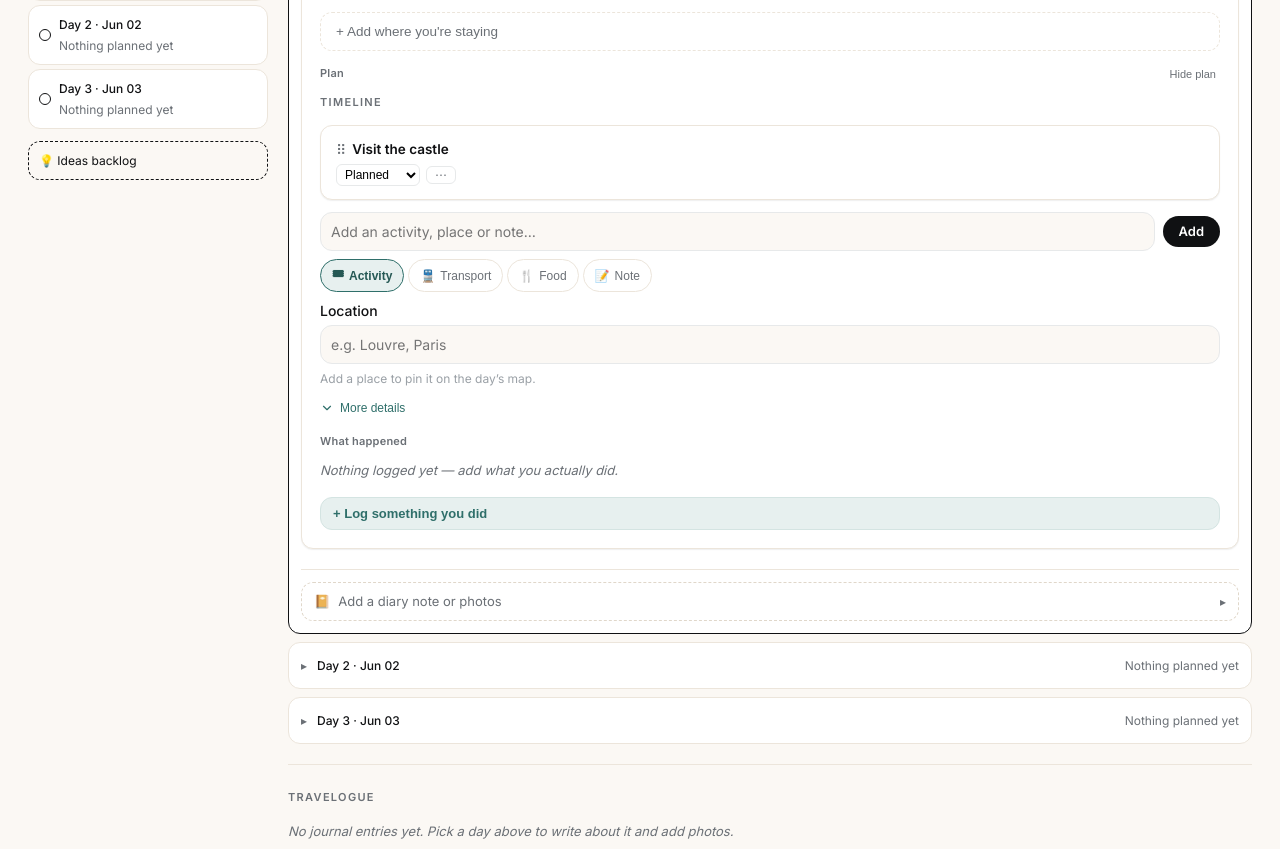
Test: TripPlanPage › offers a collapsed diary on each day in the stack, opening the editor on click
This screenshot has width=1280, height=849.
(page scrolled)
Click the button "📔 Add a diary note or photos ▸": (420, 601) [301,582,1239,621]
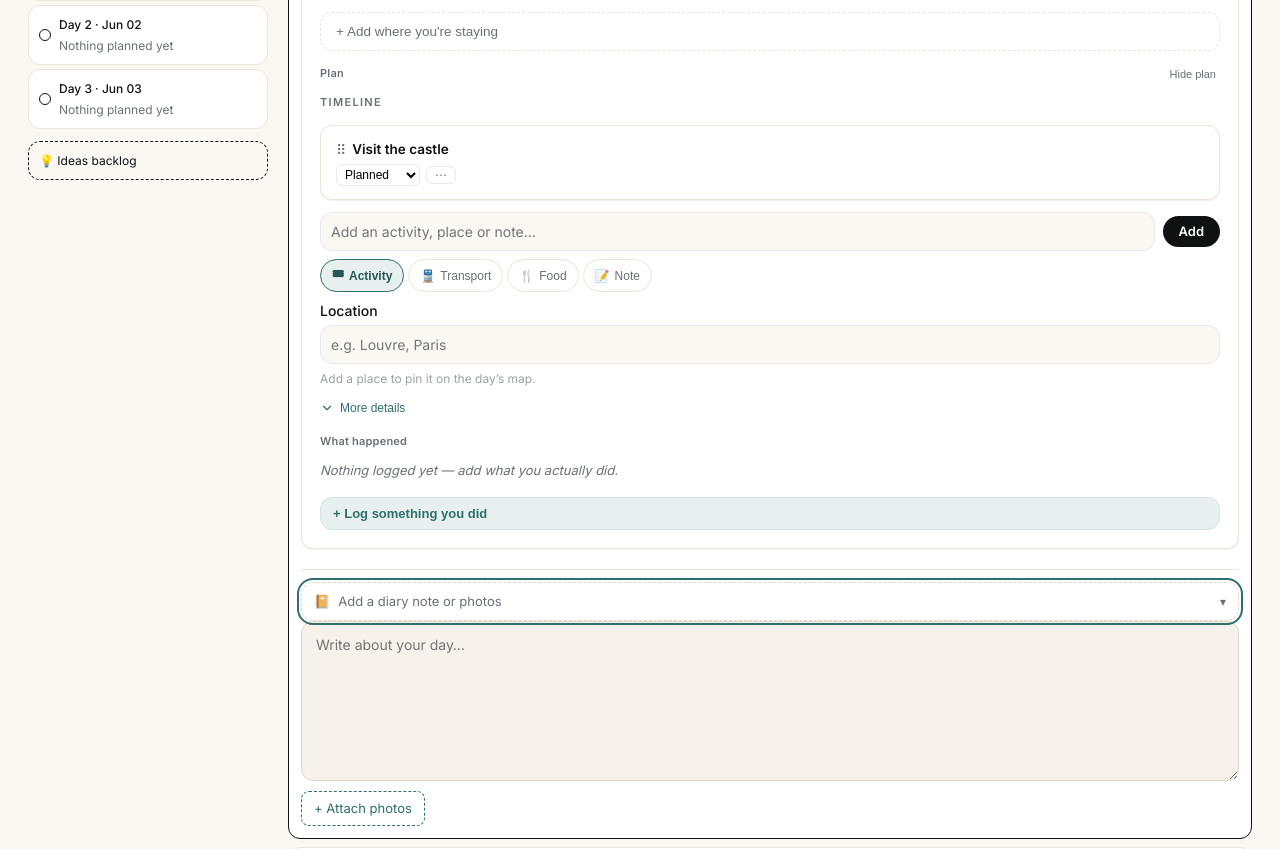
Expected: the text box named "Journal entry" is shown, [301,621,1239,781]
